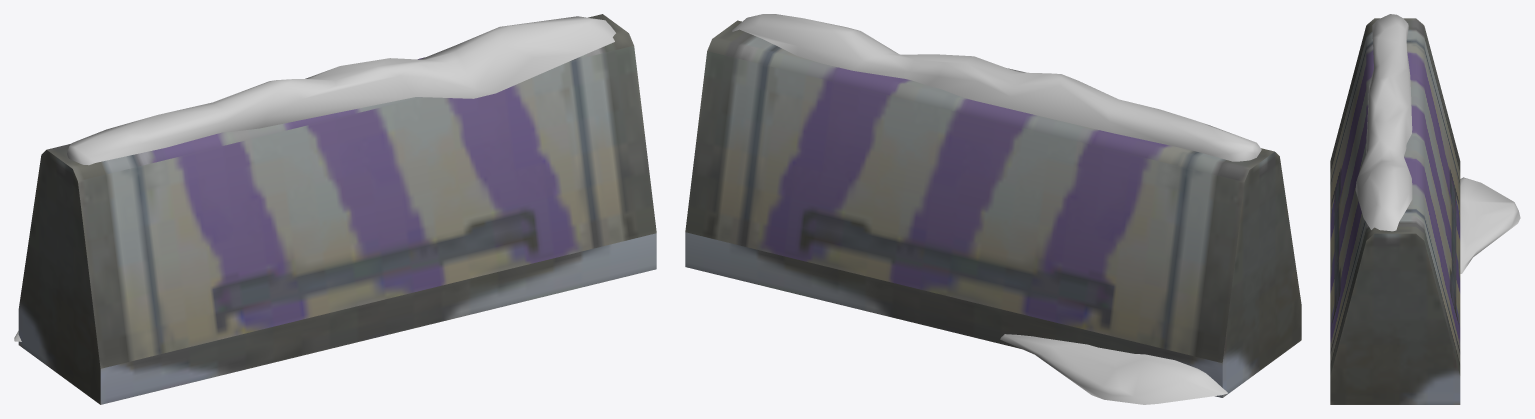
Rendered from pref_sm_city_ramen03_snow_lv3.fbx.
The picture shows the model from 3 angles, left to right: view 1: azimuth 30°, elevation 25°; view 2: azimuth 150°, elevation 25°; view 3: azimuth 270°, elevation 25°; orthographic projection. The views are drawn at different scales.
Parts seen in each view (by area): view 1: sm_city_ramen_03_snow_lv3, sm_city_ramen_03b_snow_lv3; view 2: sm_city_ramen_03_snow_lv3, sm_city_ramen_03b_snow_lv3; view 3: sm_city_ramen_03_snow_lv3, sm_city_ramen_03b_snow_lv3.
Part boxes in pixels (left/top/right/bottom): sm_city_ramen_03_snow_lv3: left=18, top=14, right=656, bottom=404; sm_city_ramen_03b_snow_lv3: left=14, top=16, right=615, bottom=341; sm_city_ramen_03_snow_lv3: left=685, top=20, right=1301, bottom=397; sm_city_ramen_03b_snow_lv3: left=732, top=14, right=1261, bottom=404; sm_city_ramen_03_snow_lv3: left=1330, top=18, right=1460, bottom=404; sm_city_ramen_03b_snow_lv3: left=1355, top=14, right=1520, bottom=273.
Size of the model in its own units: 3.43 by 1.44 by 1.27.
